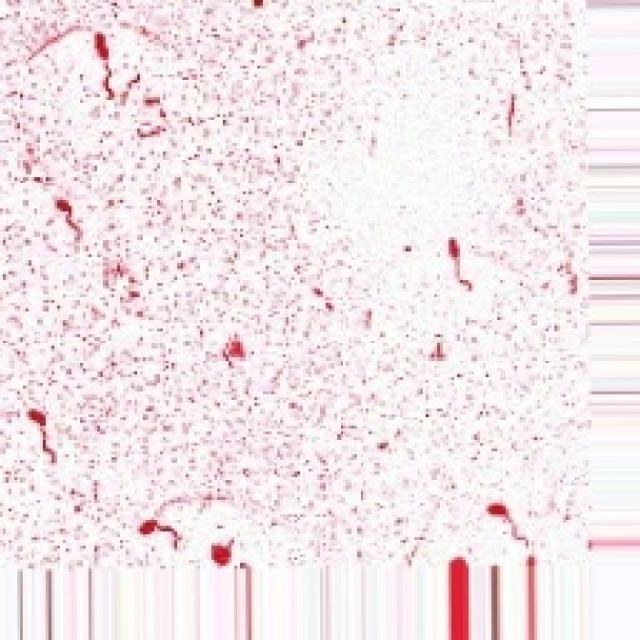Rod_bacteria: (0, 0, 597, 637)
